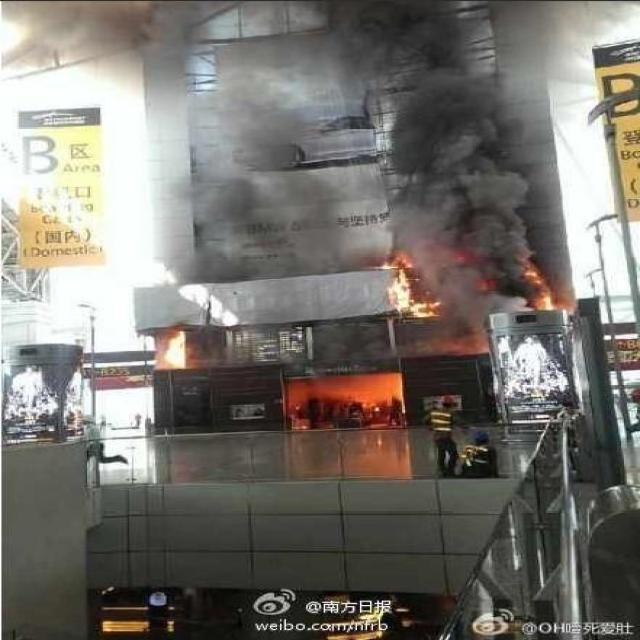Fire: (376, 254, 443, 320), (524, 267, 558, 310), (162, 330, 188, 370)
Smoke: (1, 1, 640, 353)
